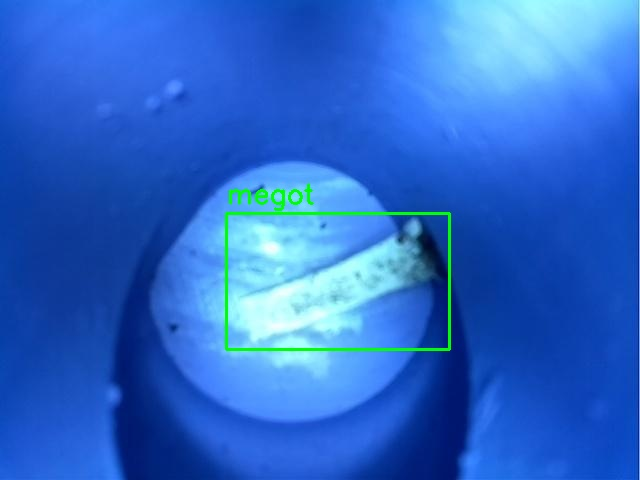megot: (226, 213, 449, 349)
